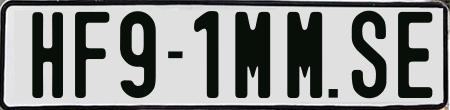1: (194, 11, 221, 101)
9: (118, 11, 155, 99)
E: (396, 9, 434, 95)
F: (74, 10, 108, 97)
H: (29, 10, 63, 97)
M: (287, 11, 324, 103), (232, 11, 270, 100)
S: (349, 8, 389, 99)
